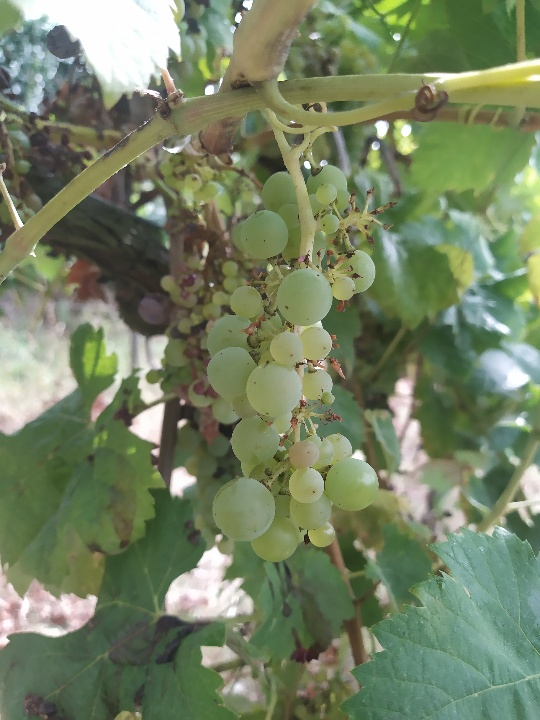grape: (202, 159, 381, 565)
